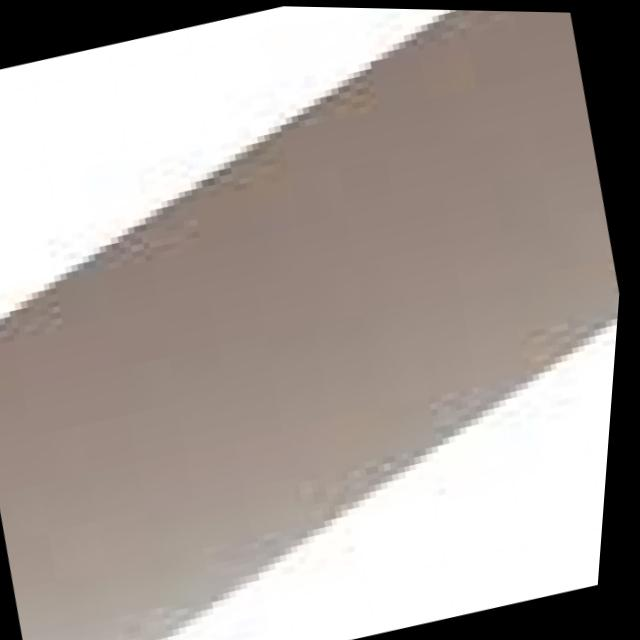metal-plates: (1, 9, 625, 640)
